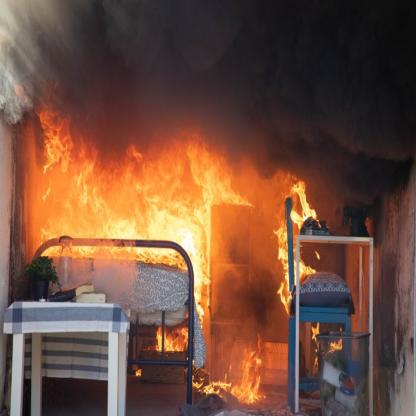fire: (28, 108, 348, 410)
smoke: (0, 0, 416, 210)
